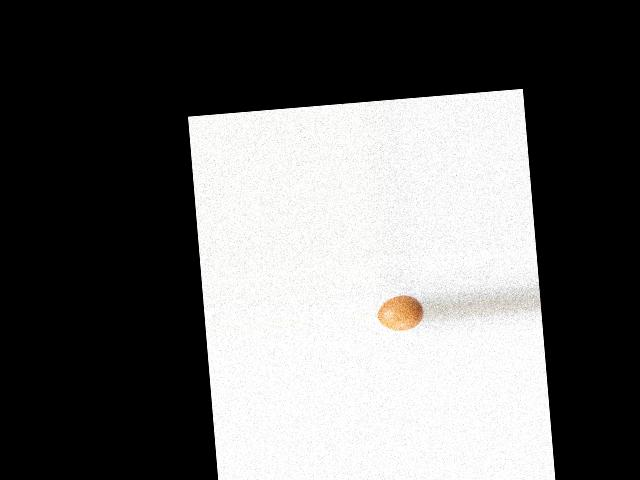egg: (376, 293, 424, 332)
